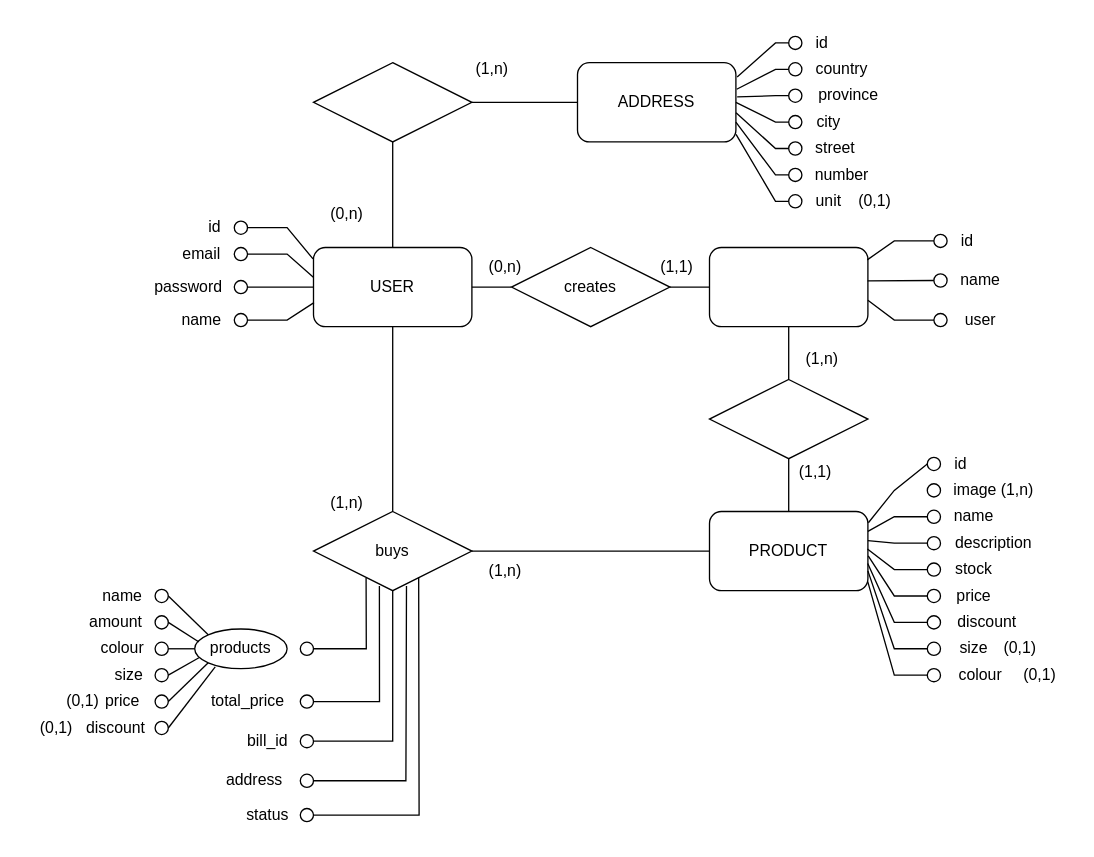
Image size: 1094x857. Some labels were removed from this diagram. Here are the shapes that lost their labels. From the top down, the centre of each, then its label:
(392,101): associates
(788,286): SHOP
(788,418): sells
